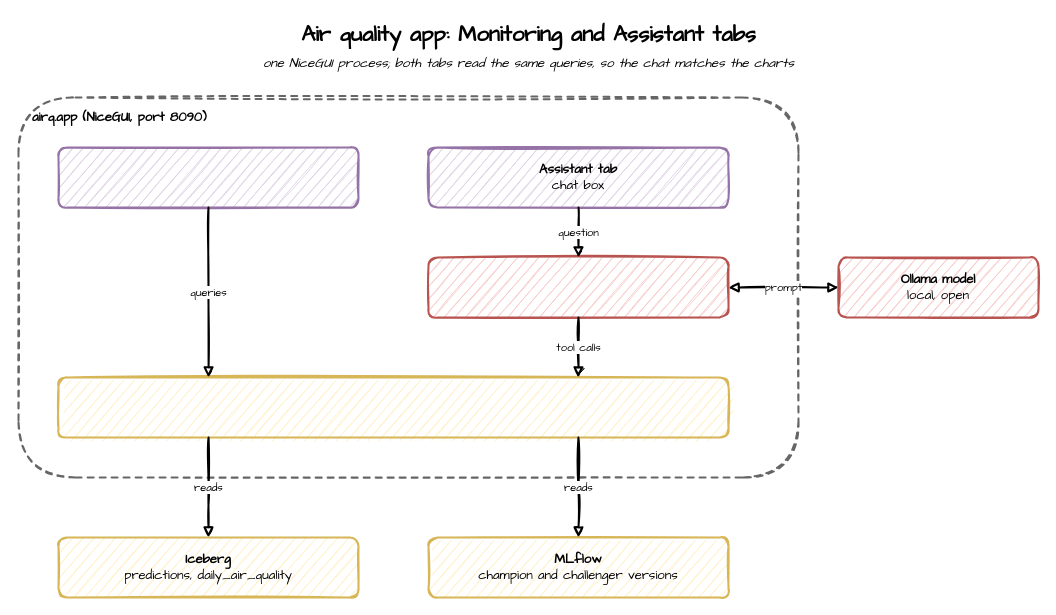
This 1056x615 diagram has some shape labels left out. Each missing label, with the centre of its shape:
"airq.app.reports models in use, forecast, measured PM2.5, errors" belongs at point 393,407.
"Monitoring tab charts and error table" belongs at point 208,177.
"Strands agent airq.app.assistant: prompt and 4 tools" belongs at point 578,287.
